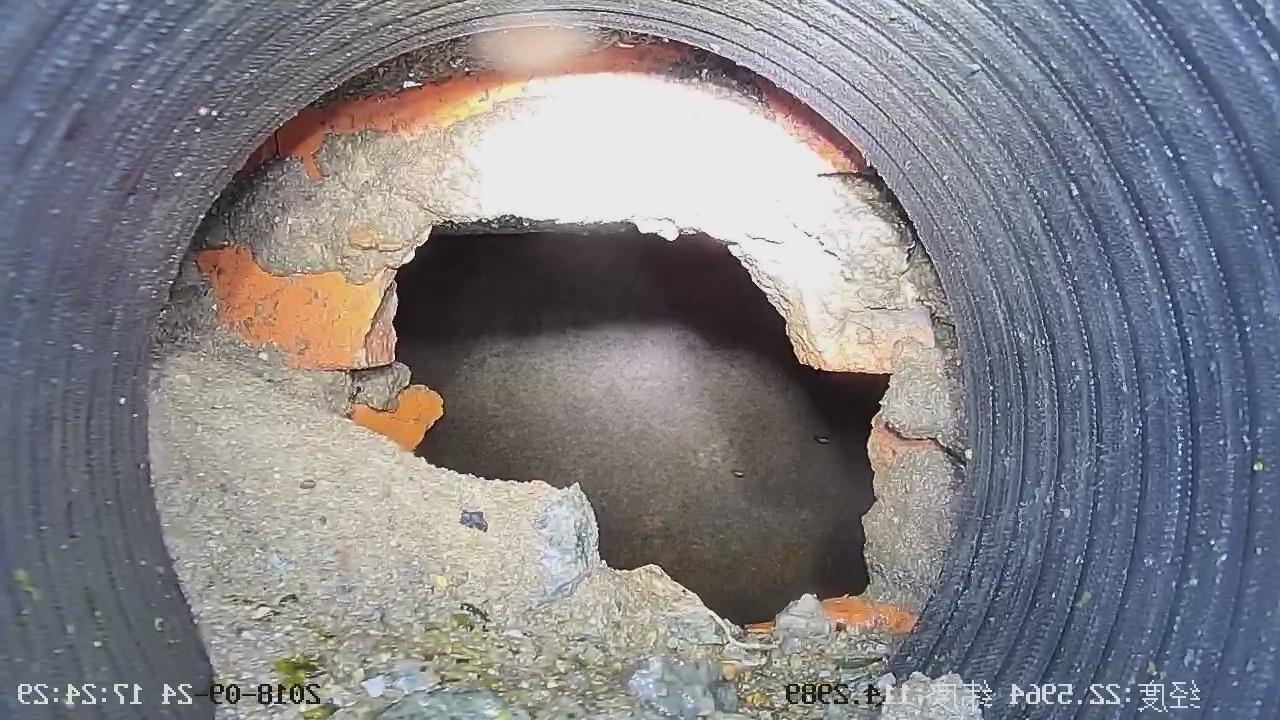CQBG: (152, 18, 972, 719)
